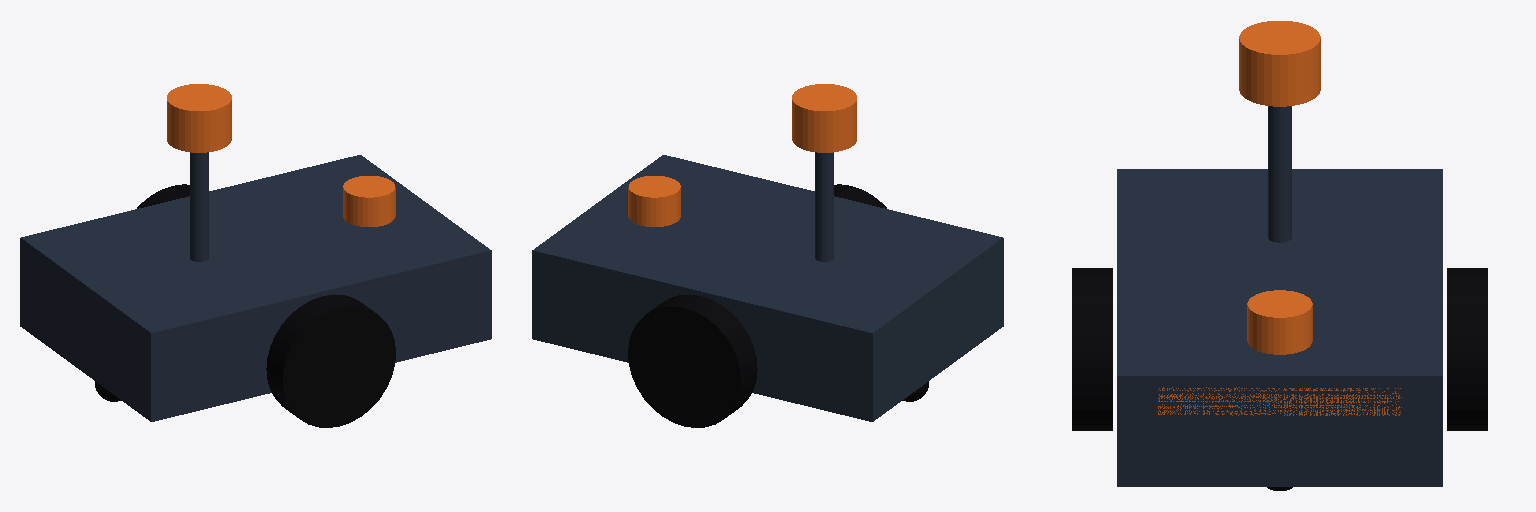
The robot description file, URDF, robot "amr_diffdrive":
<?xml version="1.0"?>
<!--
  Sample differential-drive AMR for Lagrange v0.2: a chassis on two driven wheels with a
  swivel caster at the front and at the back. Built from primitives so that it needs no mesh
  files. Masses and sizes are illustrative, not a model of any real robot; inertias are those
  of the primitive shapes (box: m(b²+c²)/12; cylinder: mr²/2 about the axis, m(3r²+h²)/12
  across it; sphere: 2mr²/5).

  The base_link frame is at axle height, in the middle of the chassis. The simulator lifts the
  robot so that its lowest collision shape touches the ground.
-->
<robot name="amr_diffdrive">
  <material name="body">
    <color rgba="0.20 0.24 0.30 1"/>
  </material>
  <material name="accent">
    <color rgba="0.91 0.47 0.18 1"/>
  </material>
  <material name="rubber">
    <color rgba="0.08 0.08 0.09 1"/>
  </material>
  <material name="steel">
    <color rgba="0.62 0.64 0.67 1"/>
  </material>

  <link name="base_link">
    <inertial>
      <origin xyz="0 0 0.03"/>
      <mass value="20.0"/>
      <!-- box 0.60 x 0.40 x 0.15 m -->
      <inertia ixx="0.30417" iyy="0.6375" izz="0.86667" ixy="0" ixz="0" iyz="0"/>
    </inertial>
    <visual>
      <origin xyz="0 0 0.03"/>
      <geometry>
        <box size="0.60 0.40 0.15"/>
      </geometry>
      <material name="body"/>
    </visual>
    <visual>
      <origin xyz="0.28 0 0.07"/>
      <geometry>
        <box size="0.04 0.30 0.04"/>
      </geometry>
      <material name="accent"/>
    </visual>
    <collision>
      <origin xyz="0 0 0.03"/>
      <geometry>
        <box size="0.60 0.40 0.15"/>
      </geometry>
    </collision>
  </link>

  <!-- Driven wheels: radius 0.10 m, width 0.05 m, 1.5 kg. -->
  <link name="left_wheel">
    <inertial>
      <mass value="1.5"/>
      <inertia ixx="0.0040625" iyy="0.0075" izz="0.0040625" ixy="0" ixz="0" iyz="0"/>
    </inertial>
    <visual>
      <origin rpy="1.5707963 0 0"/>
      <geometry>
        <cylinder radius="0.10" length="0.05"/>
      </geometry>
      <material name="rubber"/>
    </visual>
    <collision>
      <origin rpy="1.5707963 0 0"/>
      <geometry>
        <cylinder radius="0.10" length="0.05"/>
      </geometry>
    </collision>
  </link>
  <joint name="left_wheel_joint" type="continuous">
    <parent link="base_link"/>
    <child link="left_wheel"/>
    <origin xyz="0 0.23 0"/>
    <axis xyz="0 1 0"/>
    <limit effort="10.0" velocity="20.0"/>
  </joint>

  <link name="right_wheel">
    <inertial>
      <mass value="1.5"/>
      <inertia ixx="0.0040625" iyy="0.0075" izz="0.0040625" ixy="0" ixz="0" iyz="0"/>
    </inertial>
    <visual>
      <origin rpy="1.5707963 0 0"/>
      <geometry>
        <cylinder radius="0.10" length="0.05"/>
      </geometry>
      <material name="rubber"/>
    </visual>
    <collision>
      <origin rpy="1.5707963 0 0"/>
      <geometry>
        <cylinder radius="0.10" length="0.05"/>
      </geometry>
    </collision>
  </link>
  <joint name="right_wheel_joint" type="continuous">
    <parent link="base_link"/>
    <child link="right_wheel"/>
    <origin xyz="0 -0.23 0"/>
    <axis xyz="0 1 0"/>
    <limit effort="10.0" velocity="20.0"/>
  </joint>

  <!-- Swivel casters, front and back: a fork turning about z, a 0.03 m ball under it. -->
  <link name="front_caster_fork">
    <inertial>
      <mass value="0.1"/>
      <inertia ixx="0.0001" iyy="0.0001" izz="0.0001" ixy="0" ixz="0" iyz="0"/>
    </inertial>
    <visual>
      <origin xyz="-0.015 0 -0.01"/>
      <geometry>
        <box size="0.04 0.03 0.03"/>
      </geometry>
      <material name="steel"/>
    </visual>
  </link>
  <joint name="front_caster_swivel" type="continuous">
    <parent link="base_link"/>
    <child link="front_caster_fork"/>
    <origin xyz="0.22 0 -0.04"/>
    <axis xyz="0 0 1"/>
  </joint>
  <link name="front_caster_wheel">
    <inertial>
      <mass value="0.2"/>
      <inertia ixx="0.000072" iyy="0.000072" izz="0.000072" ixy="0" ixz="0" iyz="0"/>
    </inertial>
    <visual>
      <geometry>
        <sphere radius="0.03"/>
      </geometry>
      <material name="rubber"/>
    </visual>
    <collision>
      <geometry>
        <sphere radius="0.03"/>
      </geometry>
    </collision>
  </link>
  <joint name="front_caster_axle" type="continuous">
    <parent link="front_caster_fork"/>
    <child link="front_caster_wheel"/>
    <origin xyz="-0.03 0 -0.03"/>
    <axis xyz="0 1 0"/>
  </joint>

  <link name="rear_caster_fork">
    <inertial>
      <mass value="0.1"/>
      <inertia ixx="0.0001" iyy="0.0001" izz="0.0001" ixy="0" ixz="0" iyz="0"/>
    </inertial>
    <visual>
      <origin xyz="-0.015 0 -0.01"/>
      <geometry>
        <box size="0.04 0.03 0.03"/>
      </geometry>
      <material name="steel"/>
    </visual>
  </link>
  <joint name="rear_caster_swivel" type="continuous">
    <parent link="base_link"/>
    <child link="rear_caster_fork"/>
    <origin xyz="-0.22 0 -0.04"/>
    <axis xyz="0 0 1"/>
  </joint>
  <link name="rear_caster_wheel">
    <inertial>
      <mass value="0.2"/>
      <inertia ixx="0.000072" iyy="0.000072" izz="0.000072" ixy="0" ixz="0" iyz="0"/>
    </inertial>
    <visual>
      <geometry>
        <sphere radius="0.03"/>
      </geometry>
      <material name="rubber"/>
    </visual>
    <collision>
      <geometry>
        <sphere radius="0.03"/>
      </geometry>
    </collision>
  </link>
  <joint name="rear_caster_axle" type="continuous">
    <parent link="rear_caster_fork"/>
    <child link="rear_caster_wheel"/>
    <origin xyz="-0.03 0 -0.03"/>
    <axis xyz="0 1 0"/>
  </joint>

  <!-- A 2D lidar on a short mast at the front, above the chassis. -->
  <link name="lidar_link">
    <inertial>
      <mass value="0.3"/>
      <inertia ixx="0.0002" iyy="0.0002" izz="0.0002" ixy="0" ixz="0" iyz="0"/>
    </inertial>
    <visual>
      <geometry>
        <cylinder radius="0.04" length="0.05"/>
      </geometry>
      <material name="accent"/>
    </visual>
  </link>
  <joint name="lidar_mount" type="fixed">
    <parent link="base_link"/>
    <child link="lidar_link"/>
    <origin xyz="0.20 0 0.13"/>
  </joint>

  <!-- Roof lidar on a mast: visual only, so that its own beams never hit it. -->
  <link name="lidar_mast">
    <inertial>
      <mass value="0.2"/>
      <inertia ixx="0.0007" iyy="0.0007" izz="0.00002" ixy="0" ixz="0" iyz="0"/>
    </inertial>
    <visual>
      <geometry>
        <cylinder radius="0.015" length="0.20"/>
      </geometry>
      <material name="body"/>
    </visual>
  </link>
  <joint name="mast_mount" type="fixed">
    <parent link="base_link"/>
    <child link="lidar_mast"/>
    <origin xyz="-0.10 0 0.205"/>
  </joint>
  <link name="top_lidar_link">
    <inertial>
      <mass value="0.8"/>
      <inertia ixx="0.0008" iyy="0.0008" izz="0.001" ixy="0" ixz="0" iyz="0"/>
    </inertial>
    <visual>
      <geometry>
        <cylinder radius="0.05" length="0.07"/>
      </geometry>
      <material name="accent"/>
    </visual>
  </link>
  <joint name="top_lidar_mount" type="fixed">
    <parent link="lidar_mast"/>
    <child link="top_lidar_link"/>
    <origin xyz="0 0 0.135"/>
  </joint>

  <!-- Sensors, in the Gazebo form most robot descriptions use. -->
  <gazebo reference="lidar_link">
    <sensor name="front_lidar" type="gpu_lidar">
      <update_rate>10</update_rate>
      <lidar>
        <scan>
          <horizontal>
            <samples>720</samples>
            <min_angle>-3.14159</min_angle>
            <max_angle>3.14159</max_angle>
          </horizontal>
        </scan>
        <range>
          <min>0.12</min>
          <max>20.0</max>
        </range>
        <noise>
          <type>gaussian</type>
          <stddev>0.01</stddev>
        </noise>
      </lidar>
    </sensor>
  </gazebo>
  <!-- A 16-ring 3D lidar: 360 degrees in 900 columns, rings from -15 to +15 degrees. -->
  <gazebo reference="top_lidar_link">
    <sensor name="top_lidar" type="gpu_lidar">
      <update_rate>10</update_rate>
      <lidar>
        <scan>
          <horizontal>
            <samples>900</samples>
            <min_angle>-3.14159</min_angle>
            <max_angle>3.14159</max_angle>
          </horizontal>
          <vertical>
            <samples>16</samples>
            <min_angle>-0.261799</min_angle>
            <max_angle>0.261799</max_angle>
          </vertical>
        </scan>
        <range>
          <min>0.3</min>
          <max>40.0</max>
        </range>
        <noise>
          <type>gaussian</type>
          <stddev>0.02</stddev>
        </noise>
      </lidar>
    </sensor>
  </gazebo>
  <gazebo reference="base_link">
    <sensor name="imu" type="imu">
      <update_rate>200</update_rate>
      <imu>
        <angular_velocity>
          <z><noise type="gaussian"><stddev>0.002</stddev></noise></z>
        </angular_velocity>
        <linear_acceleration>
          <x><noise type="gaussian"><stddev>0.02</stddev></noise></x>
        </linear_acceleration>
      </imu>
    </sensor>
  </gazebo>

  <!-- Which joints take commands: the driven wheels, by speed (diff_drive_controller) or torque. -->
  <ros2_control name="LagrangeSystem" type="system">
    <hardware>
      <plugin>lagrange_ros2_control/LagrangeSystem</plugin>
    </hardware>
    <joint name="left_wheel_joint">
      <command_interface name="velocity"/>
      <command_interface name="effort"/>
      <state_interface name="position"/>
      <state_interface name="velocity"/>
      <!-- Wheel speed servo (N·m per rad/s, N·m per rad) for velocity commands. -->
      <param name="velocity_p">8.0</param>
      <param name="velocity_i">40.0</param>
      <!-- Wheel encoder: counts per revolution after quadrature (a 4096-line encoder). -->
      <param name="encoder_resolution">16384</param>
    </joint>
    <joint name="right_wheel_joint">
      <command_interface name="velocity"/>
      <command_interface name="effort"/>
      <state_interface name="position"/>
      <state_interface name="velocity"/>
      <!-- Wheel speed servo (N·m per rad/s, N·m per rad) for velocity commands. -->
      <param name="velocity_p">8.0</param>
      <param name="velocity_i">40.0</param>
      <!-- Wheel encoder: counts per revolution after quadrature (a 4096-line encoder). -->
      <param name="encoder_resolution">16384</param>
    </joint>
  </ros2_control>
</robot>

--- Facts derived from the render (not from the file) ---
Views: 3 orthographic renders of the robot side by side, from view 1: azimuth 30°, elevation 25°; view 2: azimuth 150°, elevation 25°; view 3: azimuth 270°, elevation 25°.
Model amr_diffdrive with 10 links and 9 joints (6 continuous, 3 fixed), rooted at base_link, posed every joint at zero.
Visible links, largest first — view 1: base_link, right_wheel, top_lidar_link, lidar_link, lidar_mast, left_wheel; view 2: base_link, left_wheel, top_lidar_link, lidar_link, lidar_mast, right_wheel; view 3: base_link, left_wheel, right_wheel, top_lidar_link, lidar_link, lidar_mast.
Boxes of the visible links, x1,y1,x2,y2 form: base_link: (20, 155, 491, 421); right_wheel: (266, 294, 395, 427); top_lidar_link: (167, 84, 231, 152); lidar_link: (343, 176, 395, 226); lidar_mast: (190, 152, 208, 261); left_wheel: (137, 184, 189, 208); base_link: (532, 155, 1003, 421); left_wheel: (628, 294, 757, 427); top_lidar_link: (792, 84, 856, 152); lidar_link: (628, 176, 680, 226); lidar_mast: (815, 152, 833, 261); right_wheel: (834, 184, 886, 208); base_link: (1117, 169, 1442, 486); left_wheel: (1447, 268, 1487, 430); right_wheel: (1072, 268, 1112, 430); top_lidar_link: (1239, 21, 1320, 106); lidar_link: (1247, 290, 1312, 354); lidar_mast: (1268, 106, 1291, 242).
Size in the robot's own frame: 0.6 by 0.51 by 0.475 metres.
Geometry: primitives only (box / cylinder / sphere), no mesh files.
